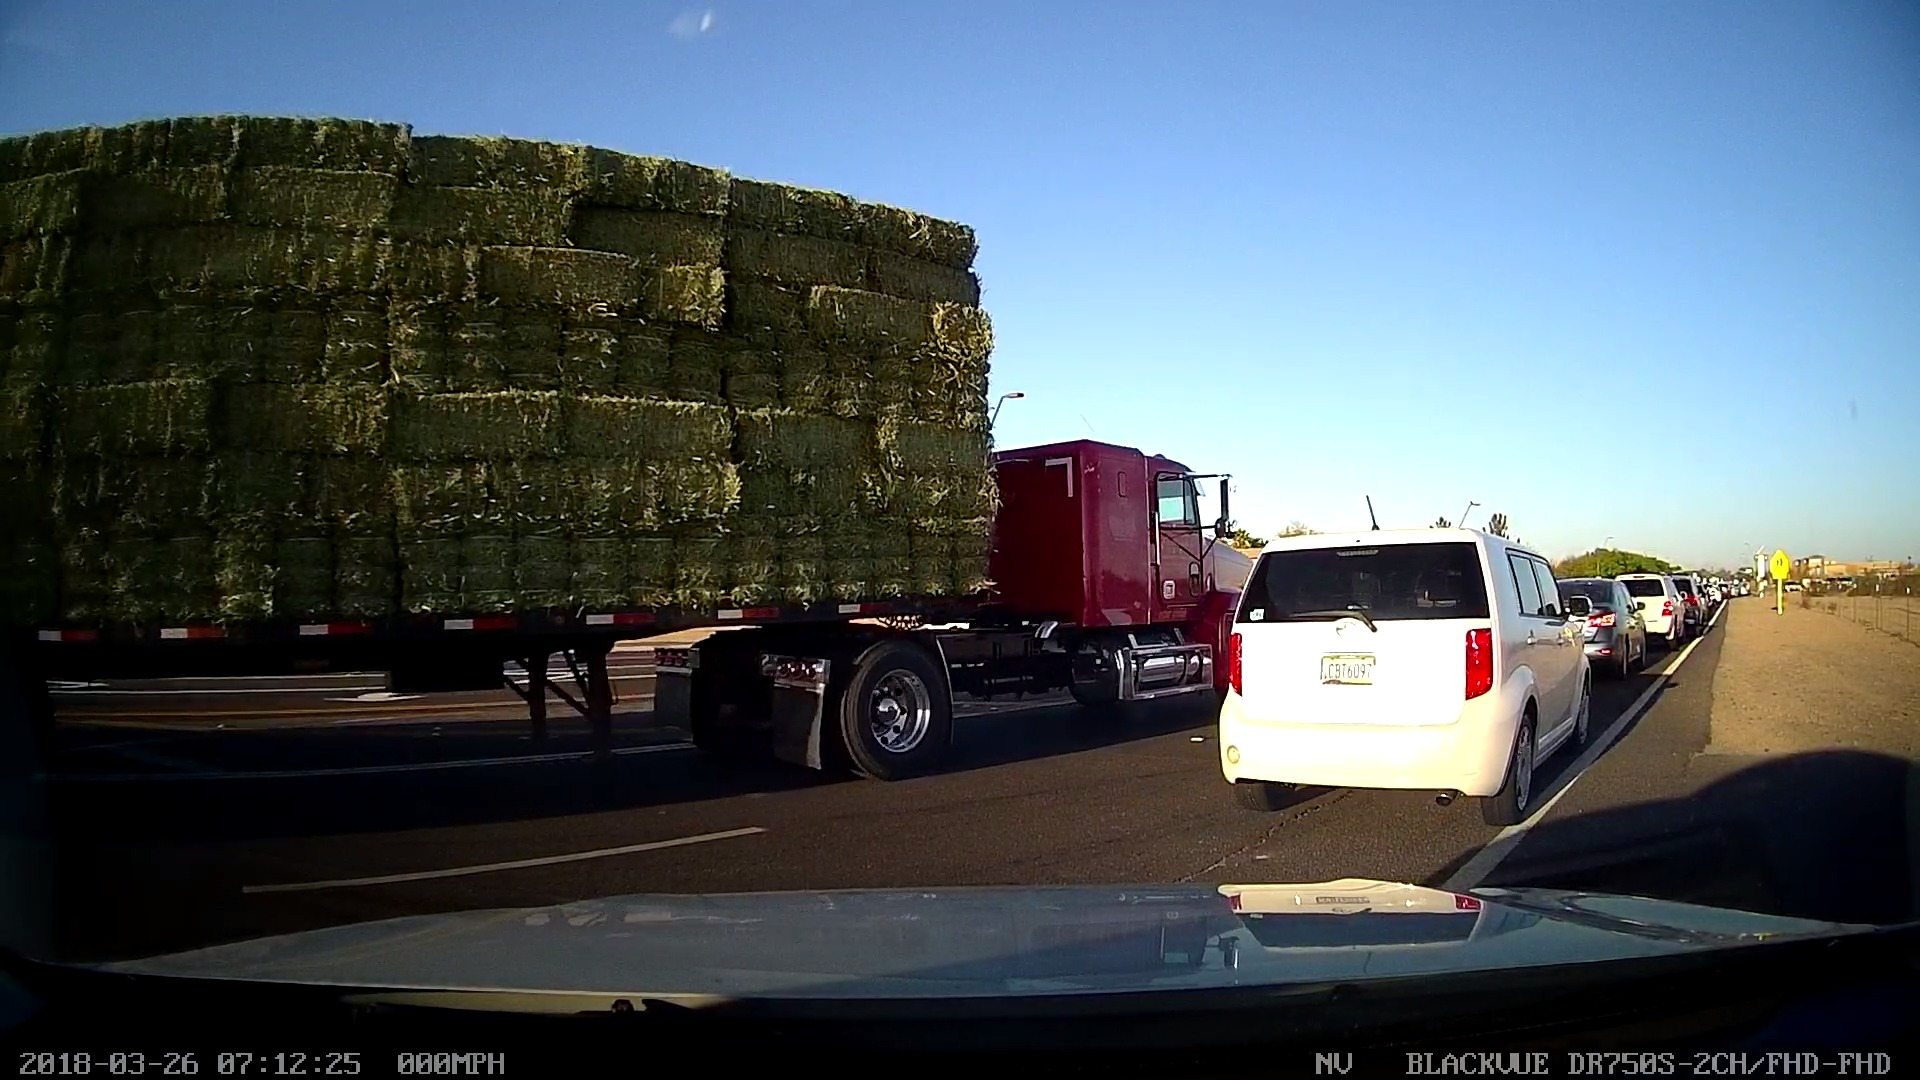plate: (1309, 646, 1390, 692)
vehicle: (0, 118, 1258, 775), (1223, 512, 1599, 820), (1538, 559, 1652, 687), (1621, 563, 1699, 652)
